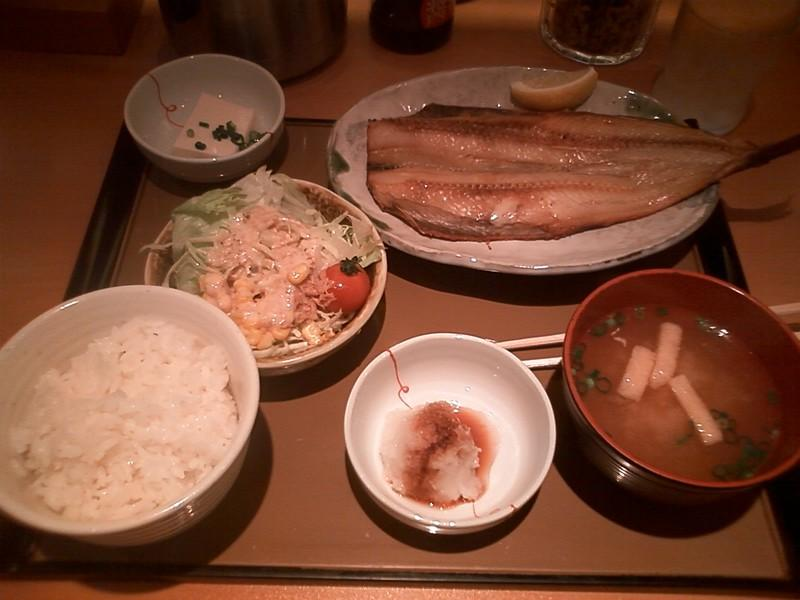rice: (13, 319, 238, 523)
